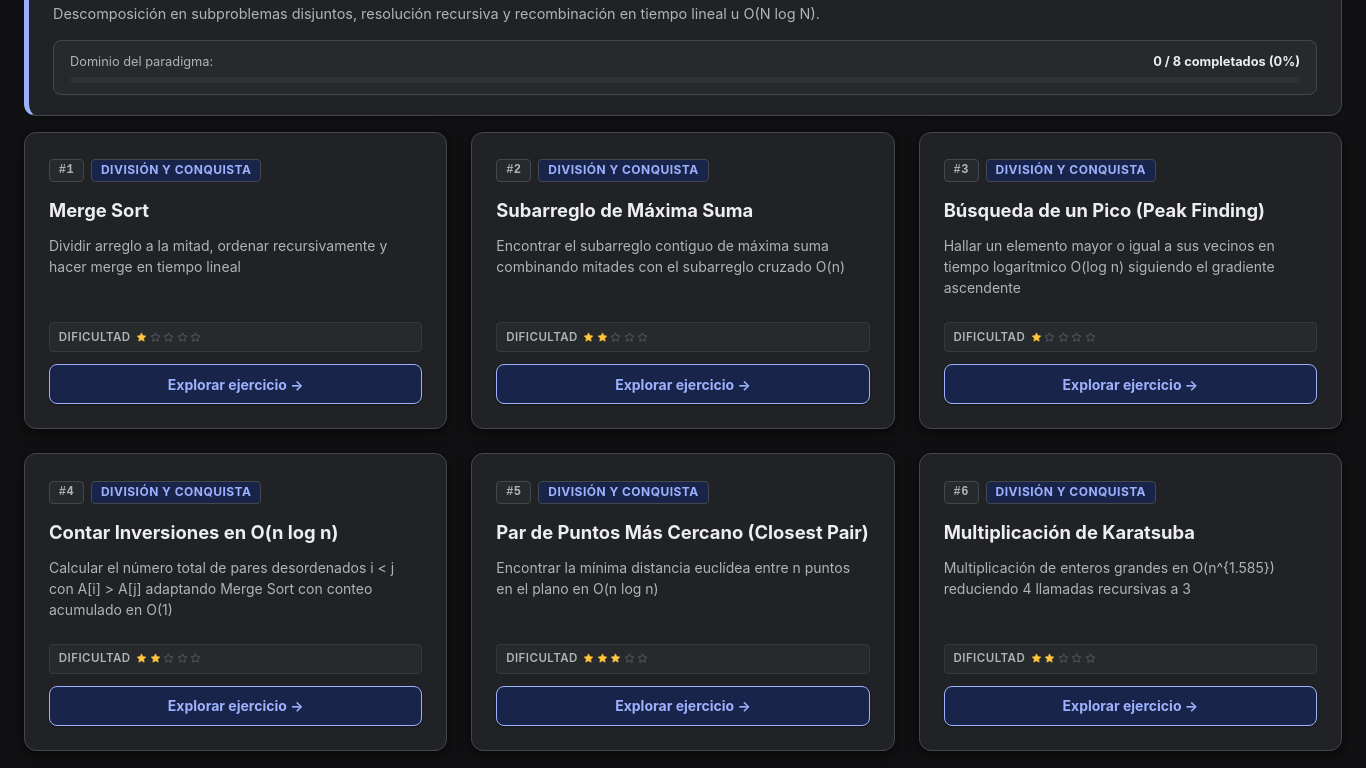
Test: Instructor Mode & Honest Skip Modal › displays honest pedagogical friction copy in the Solve phase skip modal
The width and height of the screenshot is (1366, 768).
(page scrolled)
Click the 1st button with class "btn-open-exercise" at (236,384), box left=49, top=364, right=422, bottom=404
(page scrolled)
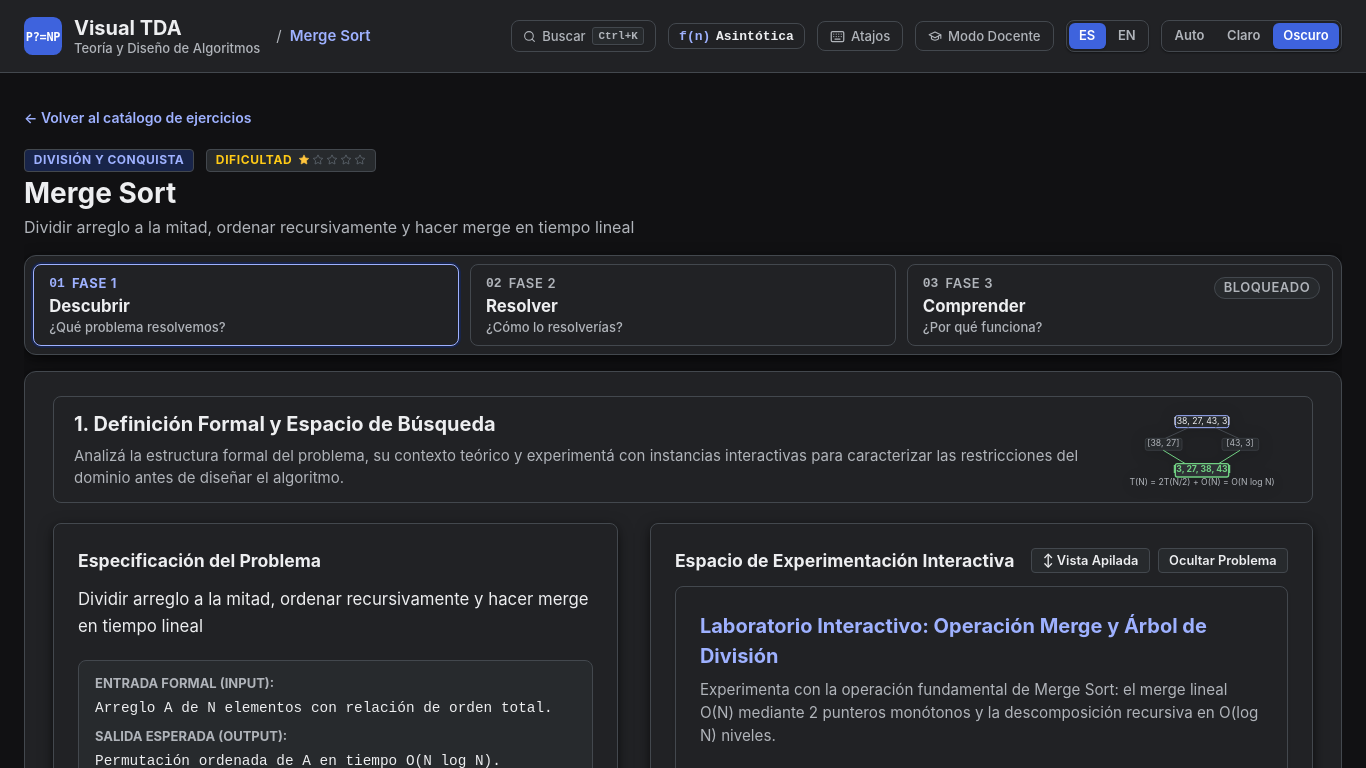
Click the tab "02 Fase 2 Resolver ¿Cómo lo resolverías?" at (532,283), box left=470, top=264, right=896, bottom=346
(page scrolled)
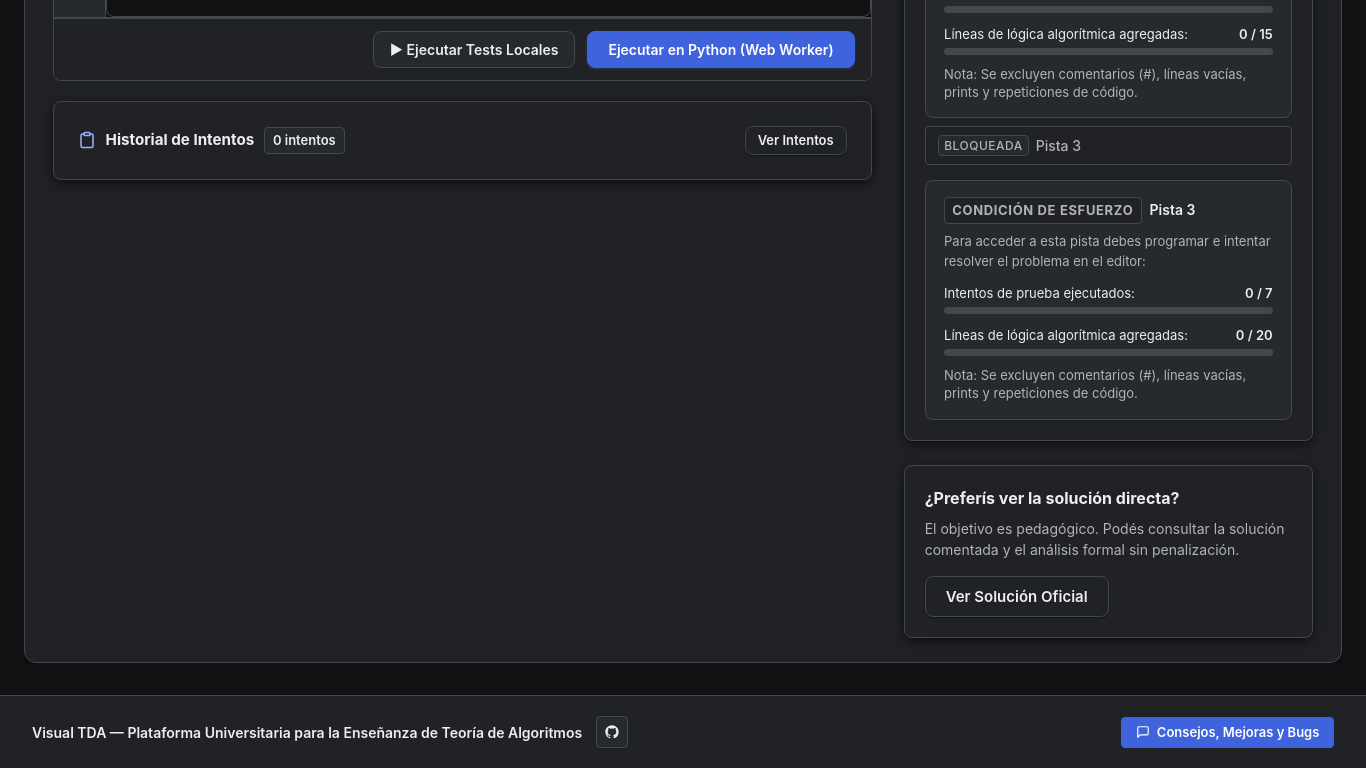
Now the button "Ver Solución Oficial" is shown
Click the button "Ver Solución Oficial" at (1017,596), box left=925, top=576, right=1109, bottom=617
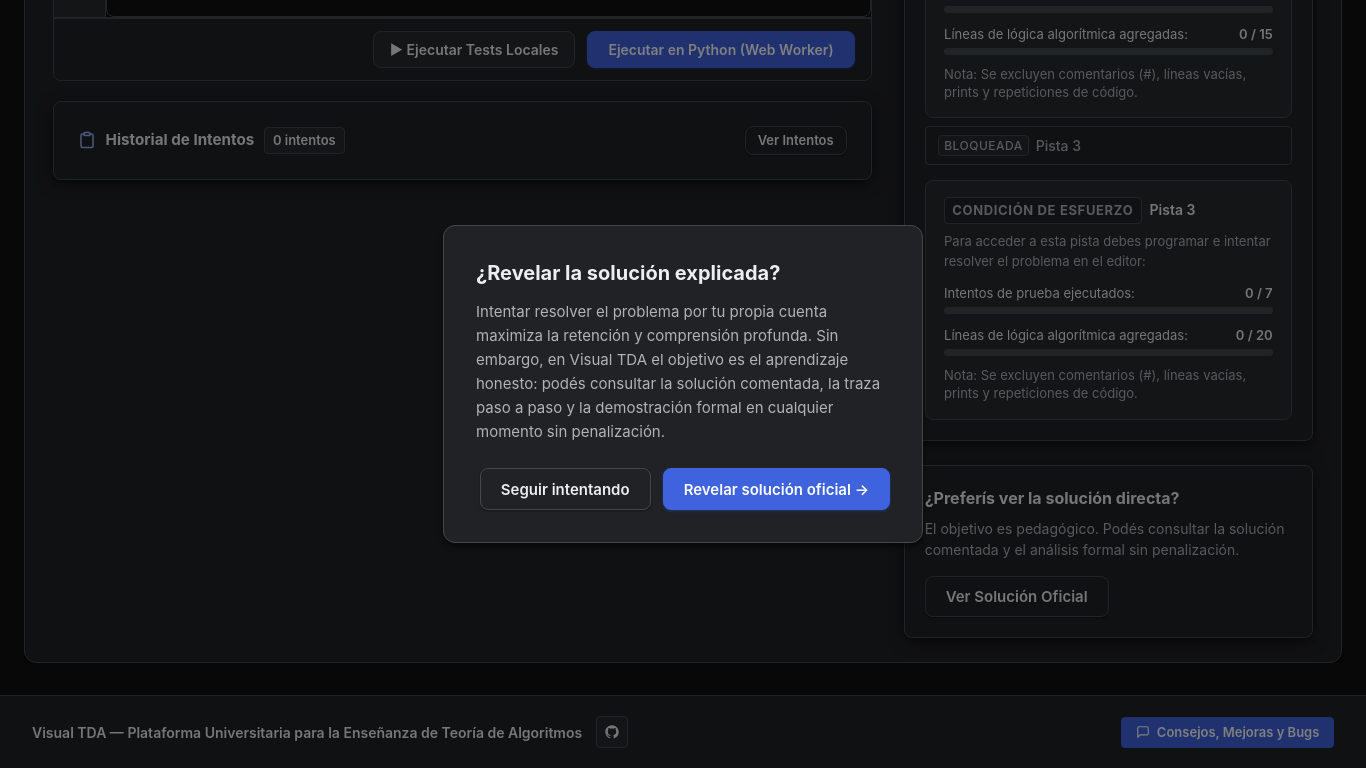
Now the element with class "modal-card" is shown, box left=443, top=225, right=923, bottom=543
Now the element with class "modal-card" shows "¿Revelar la solución explicada?", box left=476, top=261, right=780, bottom=285
Now the element with class "modal-card" shows "sin penalización", box left=476, top=302, right=880, bottom=441
